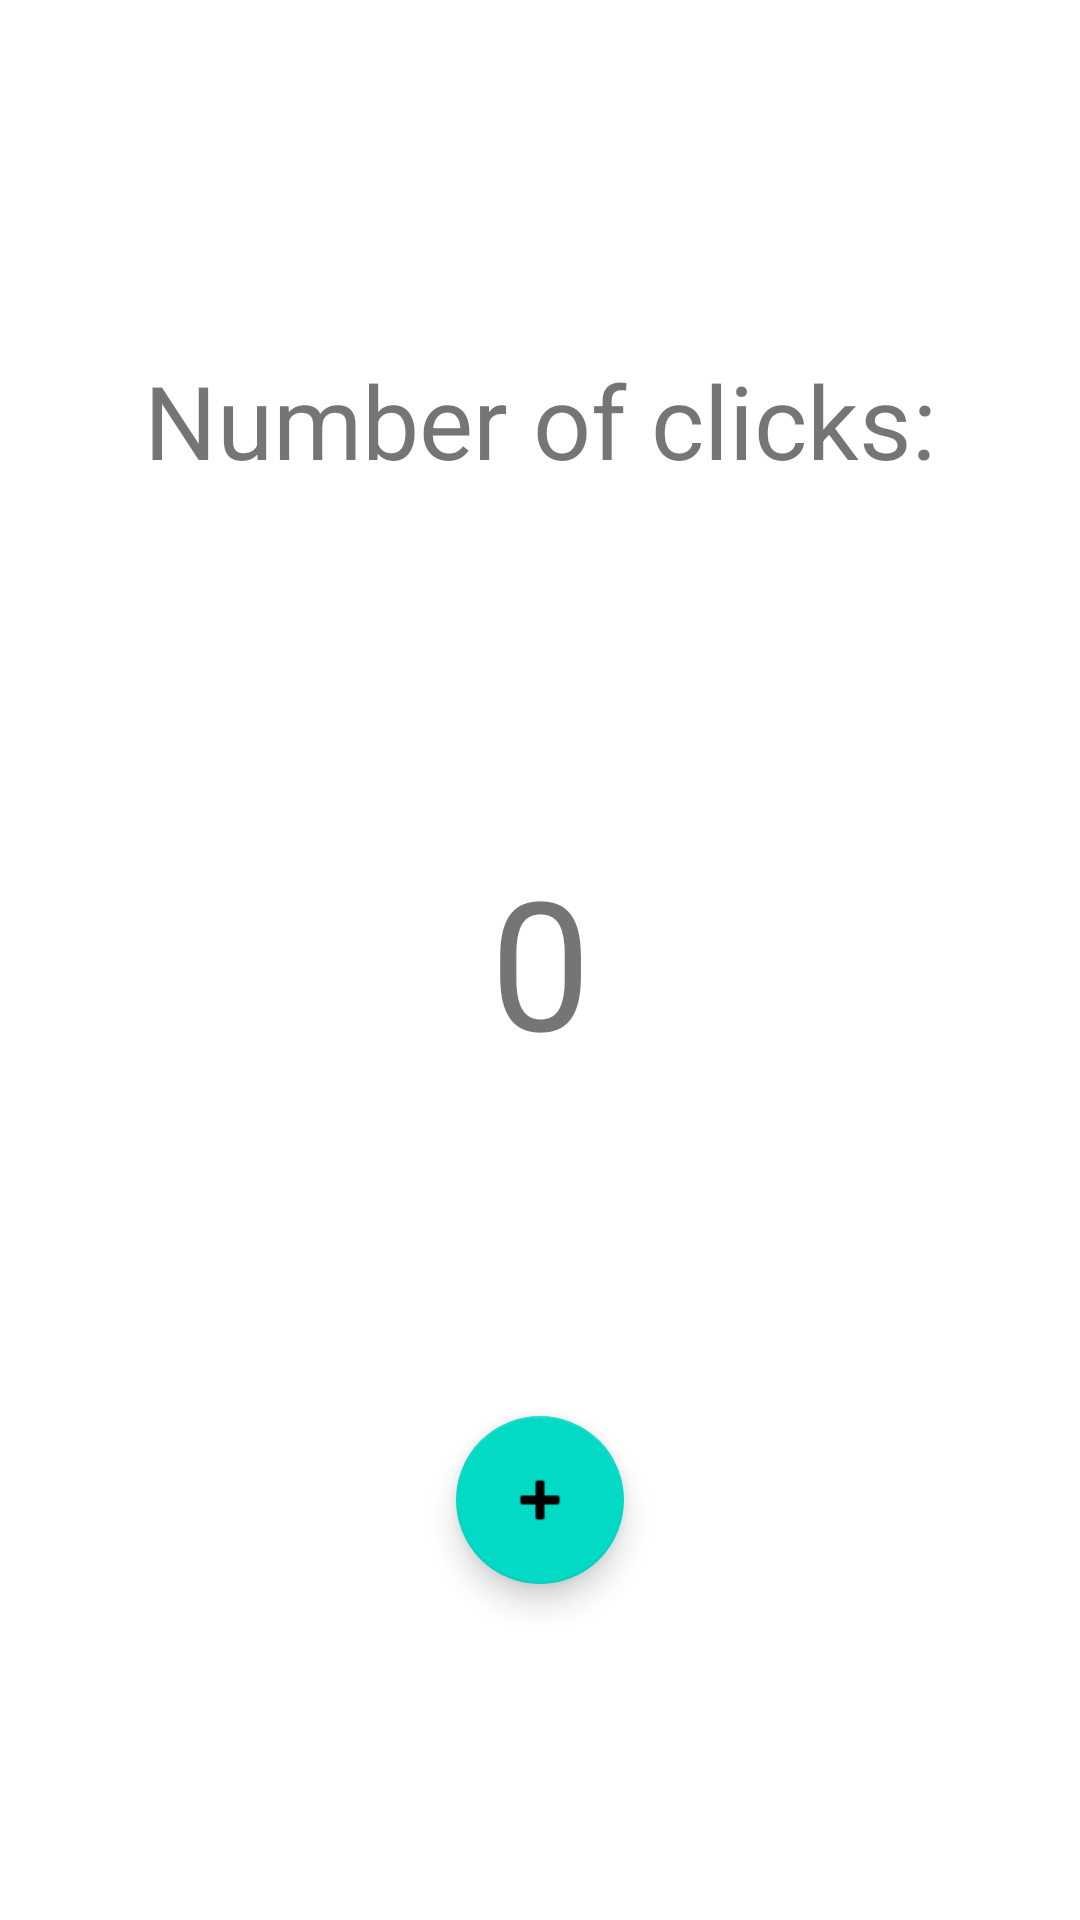

Named icons in this screenshot (1080x1920) and their centers, [x,y]:
Some FAB: [540,1500]
